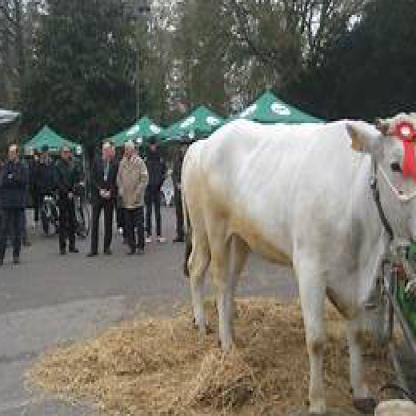cow: (181, 108, 414, 414)
